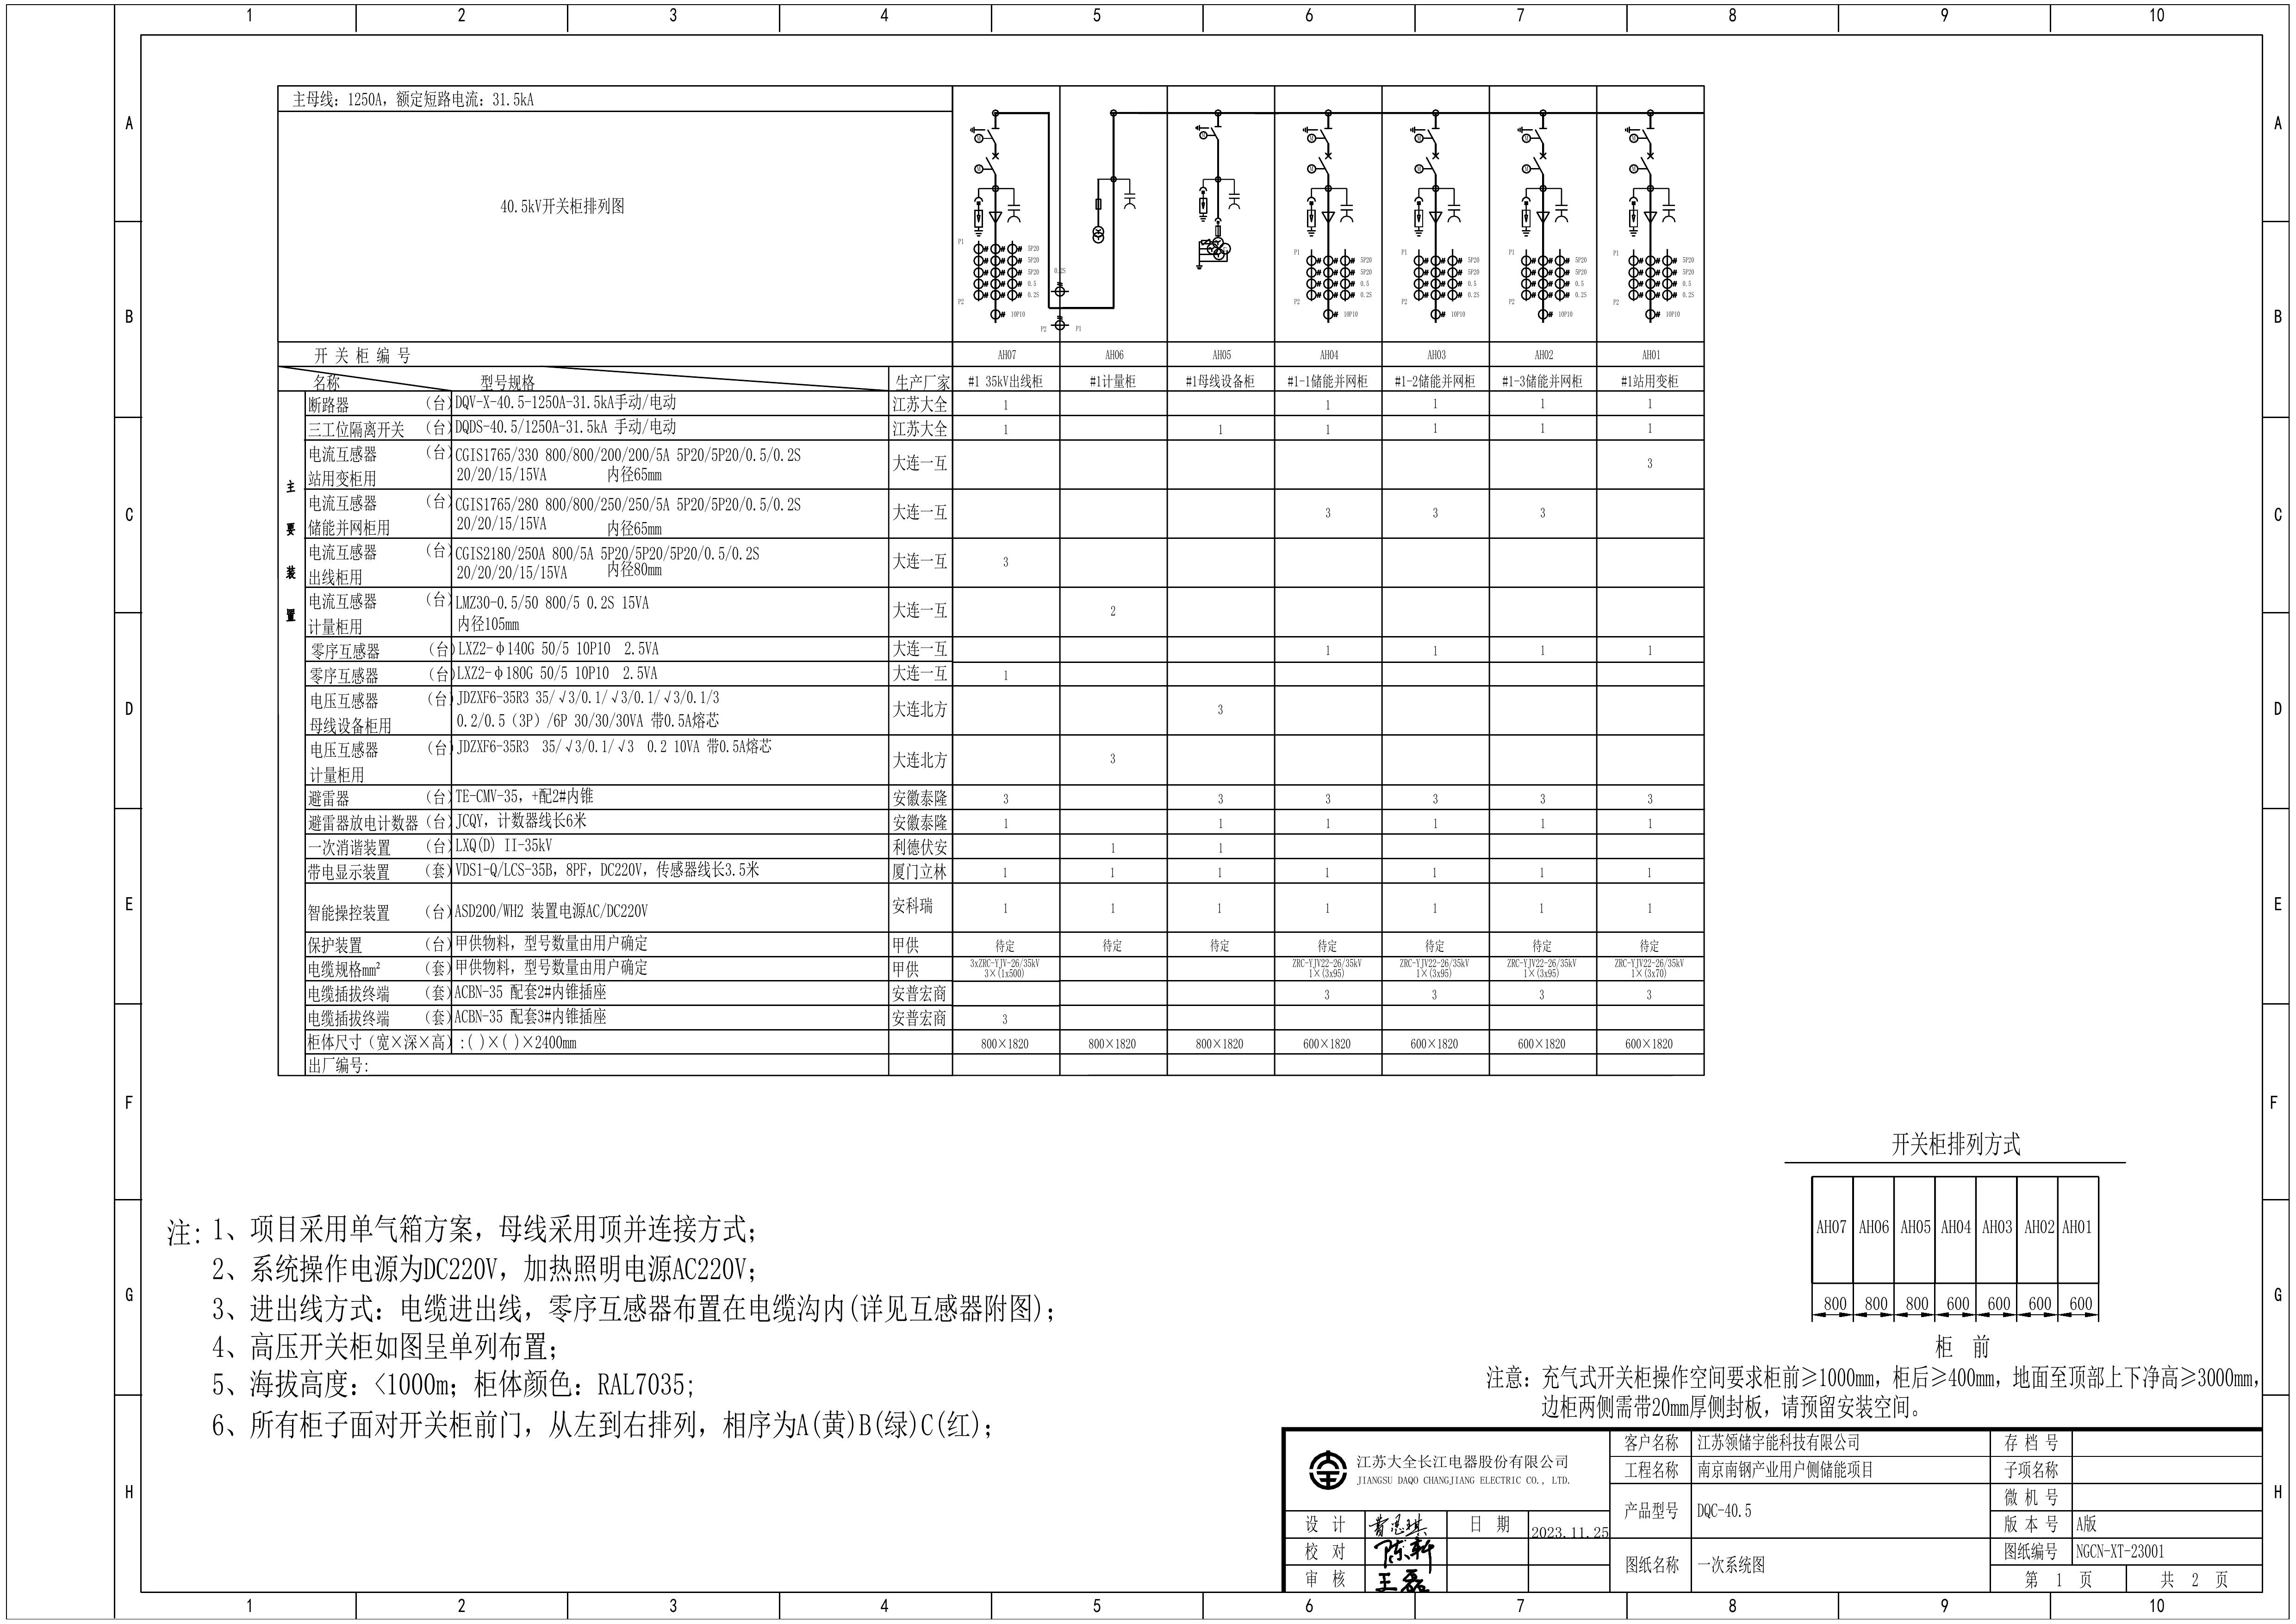diagram-EKfo: (949, 104, 1061, 341), (1386, 111, 1488, 342), (1282, 113, 1386, 333), (1599, 109, 1698, 335), (1162, 111, 1263, 325), (1497, 113, 1593, 337)
